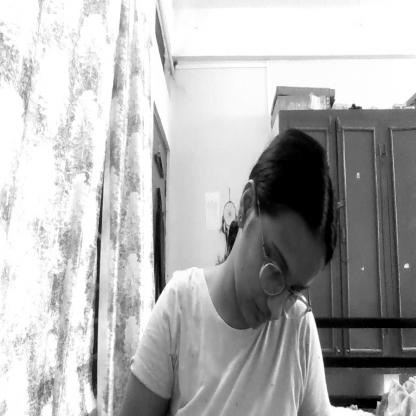Distracted: (238, 136, 334, 333)
